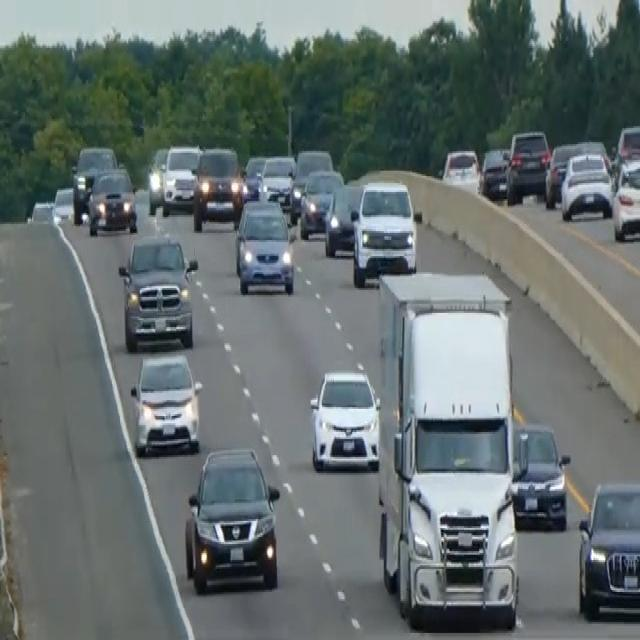car: (183, 444, 280, 594), (117, 231, 198, 350), (576, 478, 639, 619), (129, 348, 203, 457), (308, 366, 380, 473), (350, 178, 417, 286), (511, 420, 570, 530), (233, 197, 295, 295), (192, 144, 243, 229), (560, 147, 613, 220), (86, 164, 138, 236), (71, 142, 117, 222), (505, 128, 551, 204), (298, 167, 343, 240), (289, 148, 333, 218), (323, 181, 364, 256), (161, 142, 202, 215), (544, 140, 579, 207), (612, 158, 639, 240), (258, 153, 296, 208), (441, 146, 480, 194), (479, 144, 510, 199), (146, 144, 168, 213), (613, 123, 639, 174), (242, 153, 266, 199), (52, 185, 74, 222)
lorry: (374, 267, 523, 629)
